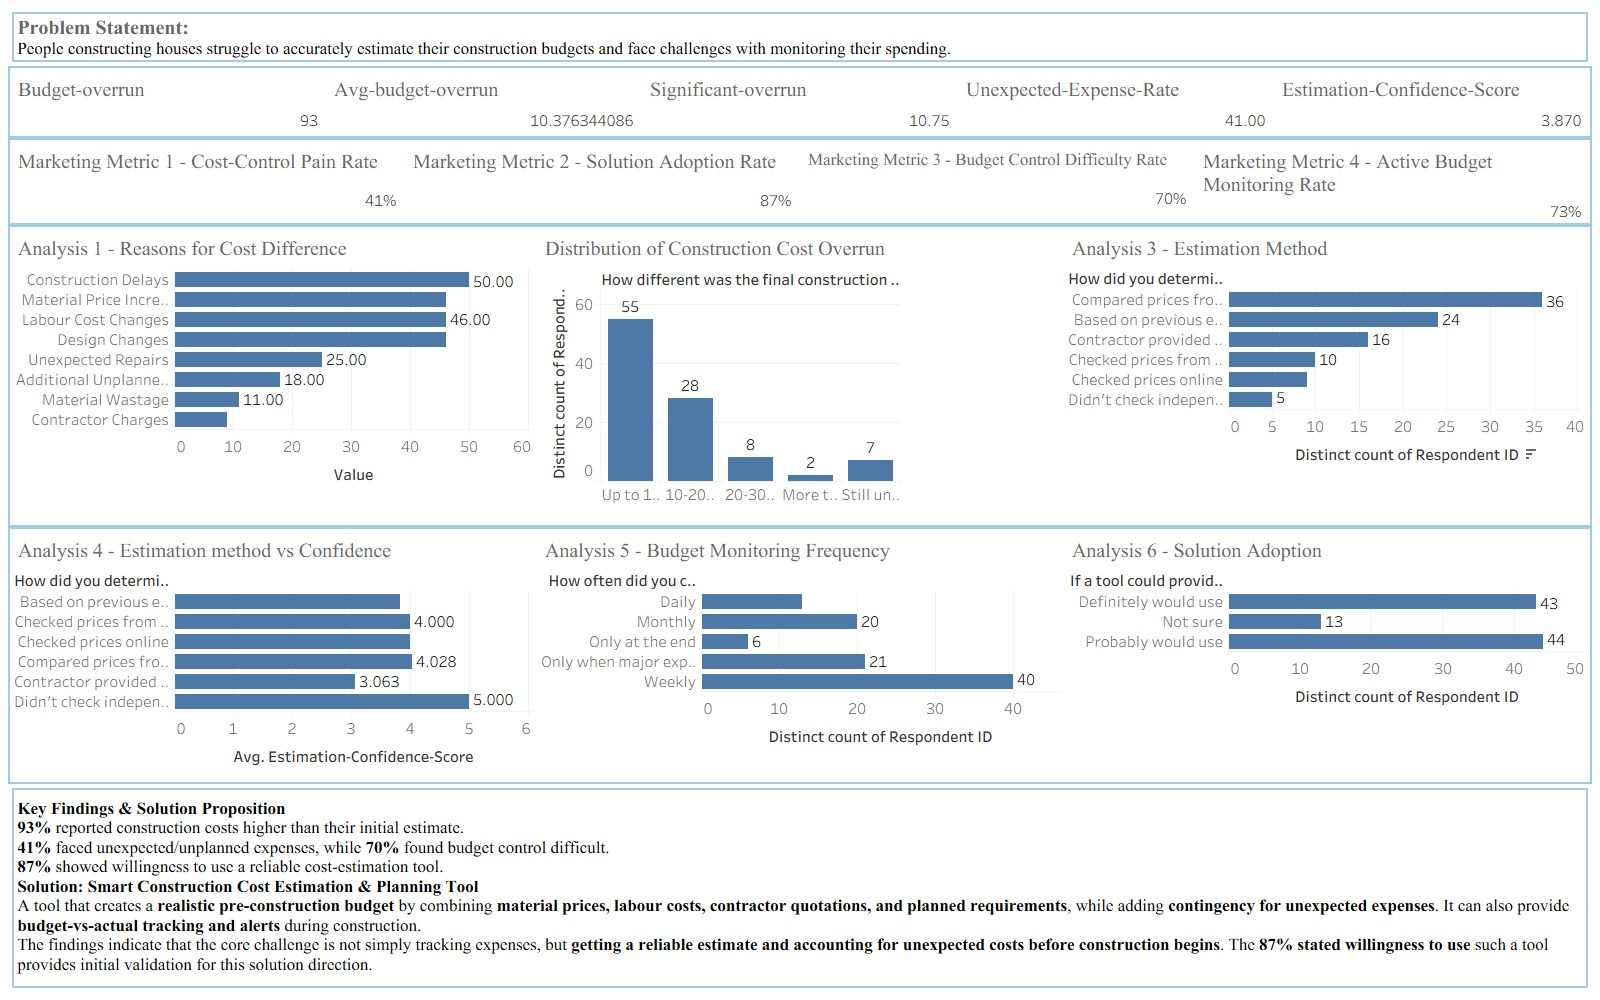

The page's visual inventory and layout, read from the dashboard file:
{"tool":"tableau","page":{"name":"Final-dashi","canvas":[1600,1000],"ordinal":0},"visuals":[{"type":"text","box":[8,8,1584,58]},{"type":"worksheet","title":"KPI-1-Budget-overrun-rate","mark":"Automatic","box":[10,68,316,68]},{"type":"worksheet","title":"KPI-2-Avg-budget-overrun","mark":"Automatic","box":[326,68,316,68]},{"type":"worksheet","title":"KPI-3-Significant-overrun-rate","mark":"Automatic","box":[642,68,316,68]},{"type":"worksheet","title":"KPI-4-Unexpected-Expense-Rate","mark":"Automatic","box":[958,68,316,68]},{"type":"worksheet","title":"KPI-5-Estimation-Confidence-Score","mark":"Automatic","box":[1274,68,316,68]},{"type":"worksheet","title":"Marketing Metric 1 - Cost-Control Pain Rate","mark":"Automatic","box":[10,140,395,83]},{"type":"worksheet","title":"Marketing Metric 2 - Solution Adoption Rate","mark":"Automatic","box":[405,140,395,83]},{"type":"worksheet","title":"Marketing Metric 3 - Budget Control Difficulty Rate","mark":"Automatic","box":[800,140,395,83]},{"type":"worksheet","title":"Marketing Metric 4 - Active Budget Monitoring Rate","mark":"Automatic","box":[1195,140,395,83]},{"type":"worksheet","title":"Analysis 1 - Reasons for Cost Difference","mark":"Automatic","box":[10,227,527,298]},{"type":"worksheet","title":"Analysis 2 - Overrun Distribution","mark":"Automatic","rows":["Respondent ID"],"cols":["How different was the final construction cost from your init"],"box":[537,227,527,298]},{"type":"worksheet","title":"Analysis 3 - Estimation Method","mark":"Automatic","cols":["Respondent ID"],"box":[1064,227,526,298]},{"type":"worksheet","title":"Analysis 4 - Estimation method vs Confidence","mark":"Automatic","cols":["Calculation_1916494287171593"],"box":[10,529,527,253]},{"type":"worksheet","title":"Analysis 5 - Budget Monitoring Frequency","mark":"Automatic","rows":["How often did you compare actual spending with your planned "],"cols":["Respondent ID"],"box":[537,529,527,253]},{"type":"worksheet","title":"Analysis 6 - Solution Adoption","mark":"Automatic","cols":["Respondent ID"],"box":[1064,529,526,253]},{"type":"text","box":[8,784,1584,208]}]}

Visuals, with their boxes in screenshot pixels (x1, y1, x2, y2), scaled from the page's 1600x1000 canvas onto the 1600x1000 screenshot:
text: box(8, 8, 1592, 66)
"KPI-1-Budget-overrun-rate" worksheet: box(10, 68, 326, 136)
"KPI-2-Avg-budget-overrun" worksheet: box(326, 68, 642, 136)
"KPI-3-Significant-overrun-rate" worksheet: box(642, 68, 958, 136)
"KPI-4-Unexpected-Expense-Rate" worksheet: box(958, 68, 1274, 136)
"KPI-5-Estimation-Confidence-Score" worksheet: box(1274, 68, 1590, 136)
"Marketing Metric 1 - Cost-Control Pain Rate" worksheet: box(10, 140, 405, 223)
"Marketing Metric 2 - Solution Adoption Rate" worksheet: box(405, 140, 800, 223)
"Marketing Metric 3 - Budget Control Difficulty Rate" worksheet: box(800, 140, 1195, 223)
"Marketing Metric 4 - Active Budget Monitoring Rate" worksheet: box(1195, 140, 1590, 223)
"Analysis 1 - Reasons for Cost Difference" worksheet: box(10, 227, 537, 525)
"Analysis 2 - Overrun Distribution" worksheet: box(537, 227, 1064, 525)
"Analysis 3 - Estimation Method" worksheet: box(1064, 227, 1590, 525)
"Analysis 4 - Estimation method vs Confidence" worksheet: box(10, 529, 537, 782)
"Analysis 5 - Budget Monitoring Frequency" worksheet: box(537, 529, 1064, 782)
"Analysis 6 - Solution Adoption" worksheet: box(1064, 529, 1590, 782)
text: box(8, 784, 1592, 992)
